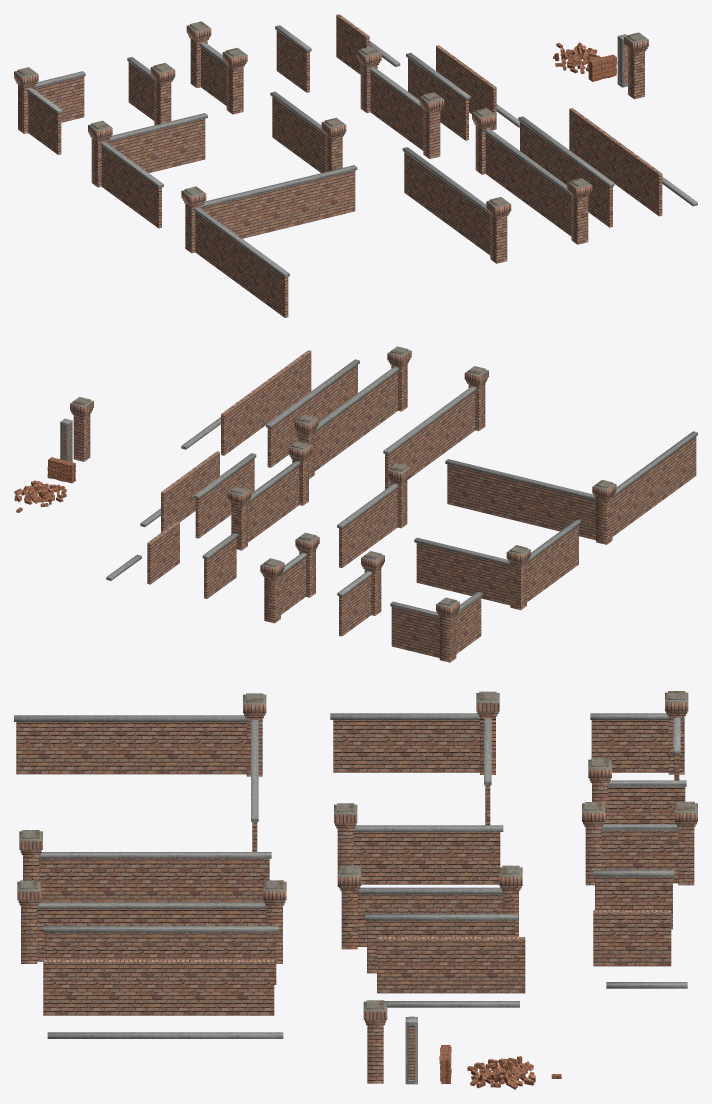
Rendered from brick_wall_without_proxy.obj.
3 views of the same model, one above another, from view 1: azimuth 30°, elevation 25°; view 2: azimuth 150°, elevation 25°; view 3: azimuth 270°, elevation 25° (orthographic). The views are drawn at different scales.
Parts seen in each view (by area): view 1: brick_wall_large_corner, brick_wall_medium_corner, brick_wall_large_2_columns, brick_wall_large_1_column, brick_wall_medium_2_columns, brick_wall_large_without_top, brick_wall_small_corner, brick_wall_medium_1_column, brick_wall_large, brick_wall_small_2_columns, brick_wall_medium, brick_wall_small_1_column (+7 smaller); view 2: brick_wall_large_corner, brick_wall_medium_corner, brick_wall_large_2_columns, brick_wall_large_1_column, brick_wall_small_corner, brick_wall_medium_2_columns, brick_wall_large_without_top, brick_wall_medium_1_column, brick_wall_large, brick_wall_small_2_columns, brick_wall_medium, brick_wall_small_1_column (+7 smaller); view 3: brick_wall_large_corner, brick_wall_large_without_top, brick_wall_large_1_column, brick_wall_medium_corner, brick_wall_medium_1_column, brick_wall_large_2_columns, brick_wall_medium_without_top, brick_wall_large, brick_wall_medium_2_columns, brick_wall_small_2_columns, brick_wall_small_corner, brick_wall_small_without_top (+8 smaller).
Part boxes in pixels (box(x1,y1,x2,y2)): brick_wall_large_corner: box(181, 165, 357, 317); brick_wall_medium_corner: box(88, 113, 207, 228); brick_wall_large_2_columns: box(472, 108, 592, 244); brick_wall_large_1_column: box(402, 147, 511, 263); brick_wall_medium_2_columns: box(356, 46, 444, 158); brick_wall_large_without_top: box(569, 108, 662, 216); brick_wall_small_corner: box(14, 67, 85, 154); brick_wall_medium_1_column: box(270, 91, 346, 172); brick_wall_large: box(518, 116, 614, 227); brick_wall_small_2_columns: box(186, 21, 247, 114); brick_wall_medium: box(406, 52, 470, 140); brick_wall_small_1_column: box(127, 57, 175, 125); brick_wall_large_corner: box(445, 431, 697, 544); brick_wall_medium_corner: box(414, 519, 580, 609); brick_wall_large_2_columns: box(294, 346, 411, 478); brick_wall_large_1_column: box(383, 366, 488, 489); brick_wall_small_corner: box(390, 591, 482, 662); brick_wall_medium_2_columns: box(227, 441, 312, 550); brick_wall_large_without_top: box(221, 350, 311, 455); brick_wall_medium_1_column: box(337, 463, 411, 567); brick_wall_large: box(266, 359, 359, 467); brick_wall_small_2_columns: box(260, 532, 319, 623); brick_wall_medium: box(193, 453, 256, 538); brick_wall_small_1_column: box(337, 551, 384, 636); brick_wall_large_corner: box(14, 693, 266, 851); brick_wall_large_without_top: box(43, 959, 274, 1015); brick_wall_large_1_column: box(19, 830, 271, 902); brick_wall_medium_corner: box(330, 691, 499, 825); brick_wall_medium_1_column: box(334, 803, 503, 886); brick_wall_large_2_columns: box(17, 880, 286, 963); brick_wall_medium_without_top: box(377, 937, 525, 993); brick_wall_large: box(43, 926, 278, 984); brick_wall_medium_2_columns: box(338, 865, 522, 949); brick_wall_small_2_columns: box(582, 801, 697, 885); brick_wall_small_corner: box(590, 691, 688, 780); brick_wall_small_without_top: box(593, 910, 671, 966).
Bounding box in the file's own units: 2749 × 309 × 2453.
